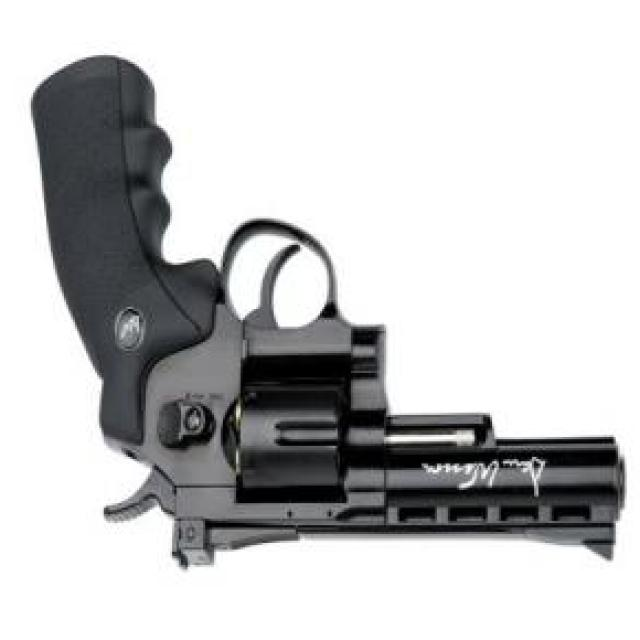pistol: (28, 43, 624, 572)
